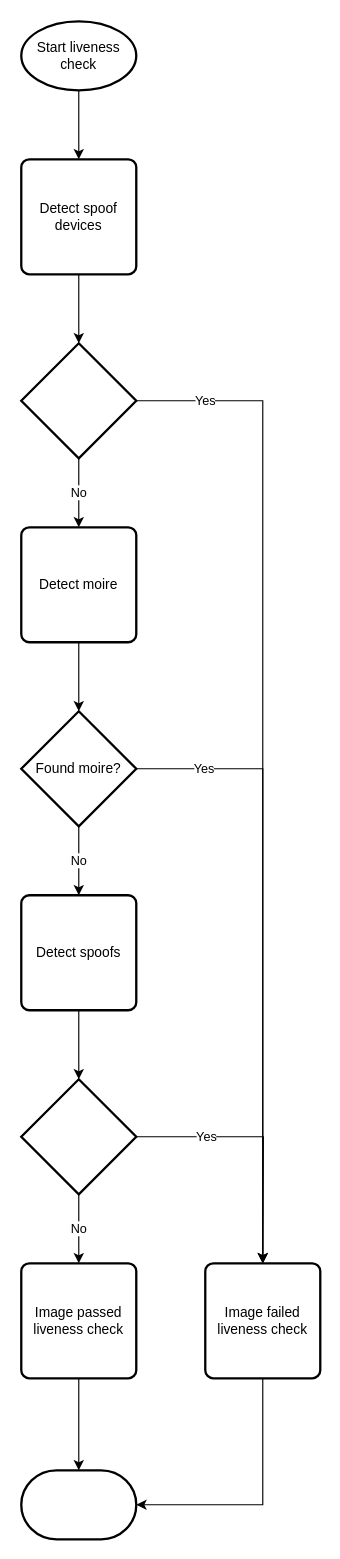
Some shapes in this 340 by 1559 pixel diagram are drawn without their labels. Each missing label, with the centre of its shape:
"Finish liveness check" goes at [78,1504].
"Found spoof devices?" goes at [78,400].
"Found spoofs?" goes at [78,1136].
